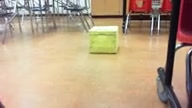cube: (88, 26, 118, 54)
